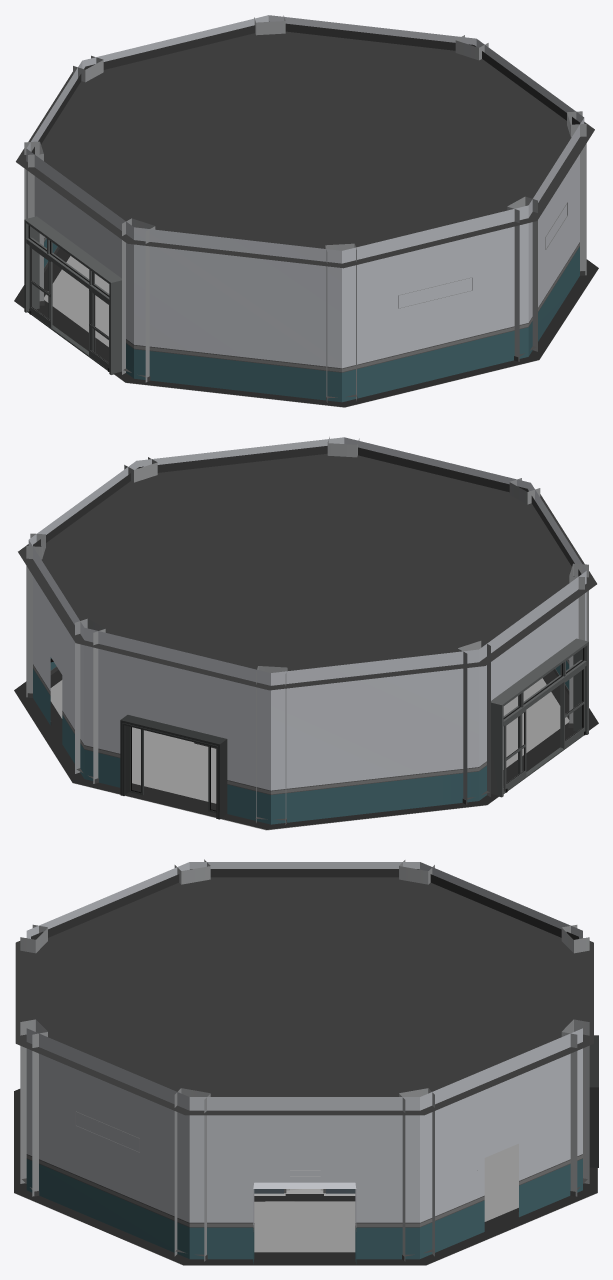
Rendered from SM_H_Building_Tide_MedicalRoom_07_ATLAS.fbx.
The picture shows the model from 3 angles, top to bottom: view 1: azimuth 30°, elevation 25°; view 2: azimuth 150°, elevation 25°; view 3: azimuth 270°, elevation 25°; orthographic projection. The views are drawn at different scales.
Visible parts, largest first — view 1: SM_H_Building_Tide_MedicalRoom_07_ATLAS; view 2: SM_H_Building_Tide_MedicalRoom_07_ATLAS; view 3: SM_H_Building_Tide_MedicalRoom_07_ATLAS.
Part boxes in pixels (x1,y1,x2,y2): SM_H_Building_Tide_MedicalRoom_07_ATLAS: (14, 15, 598, 407); SM_H_Building_Tide_MedicalRoom_07_ATLAS: (14, 437, 598, 830); SM_H_Building_Tide_MedicalRoom_07_ATLAS: (14, 859, 598, 1265).
Bounding box in the file's own units: 1804 × 1798 × 553.
